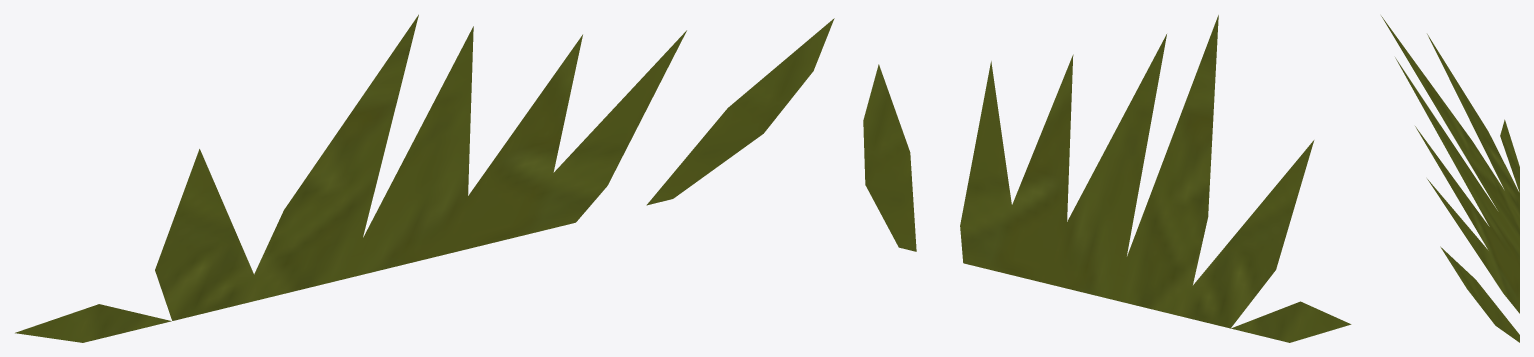
The model's file is SM_ZSJ_cao001.FBX.
3 views of the same model, side by side, from view 1: azimuth 30°, elevation 25°; view 2: azimuth 150°, elevation 25°; view 3: azimuth 270°, elevation 25° (orthographic). The views are drawn at different scales.
Parts seen in each view (by area): view 1: SM_ZSJ_cao001; view 2: SM_ZSJ_cao001; view 3: SM_ZSJ_cao001.
Part boxes in pixels (x1,y1,x2,y2): SM_ZSJ_cao001: [15, 14, 834, 342]; SM_ZSJ_cao001: [863, 15, 1351, 342]; SM_ZSJ_cao001: [1381, 16, 1519, 342].
Bounding box in the file's own units: 122 × 54.58 × 31.58.
Materials: 1 (1 with a texture image).
